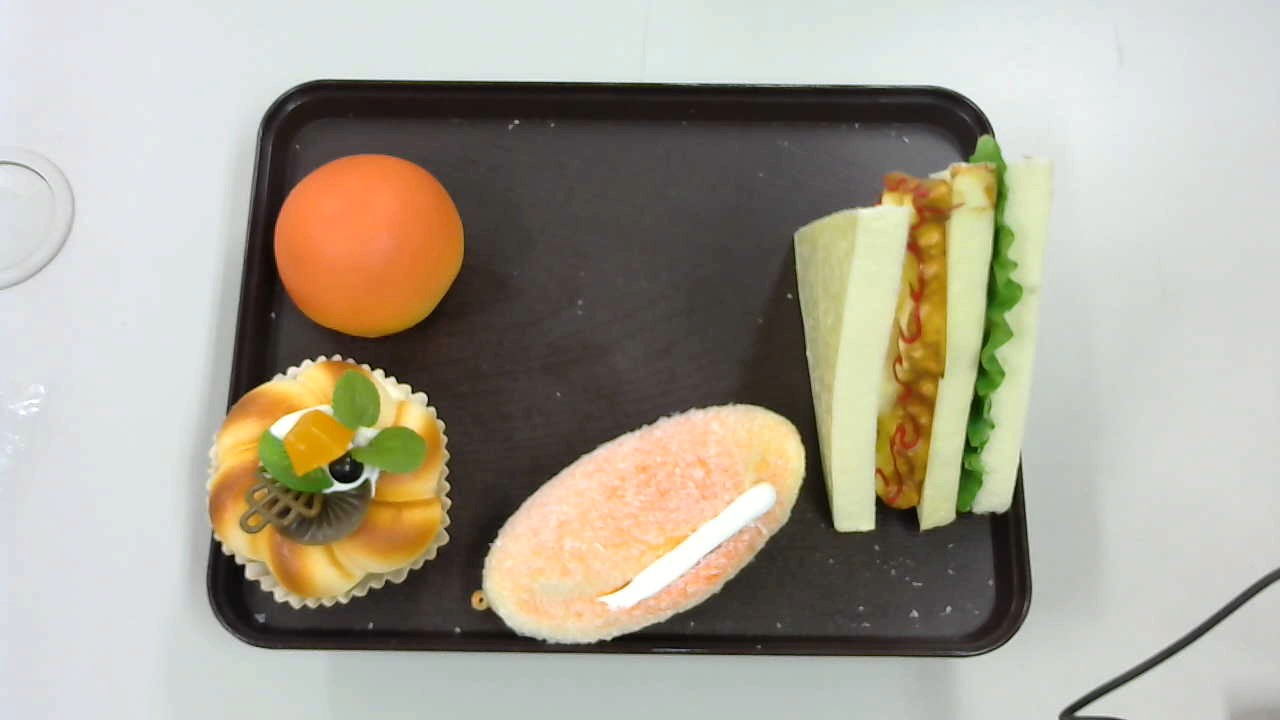bun: (275, 152, 464, 338)
coconut: (471, 402, 807, 645)
fruit tart: (206, 355, 452, 611)
sandwich: (794, 135, 1064, 533)
